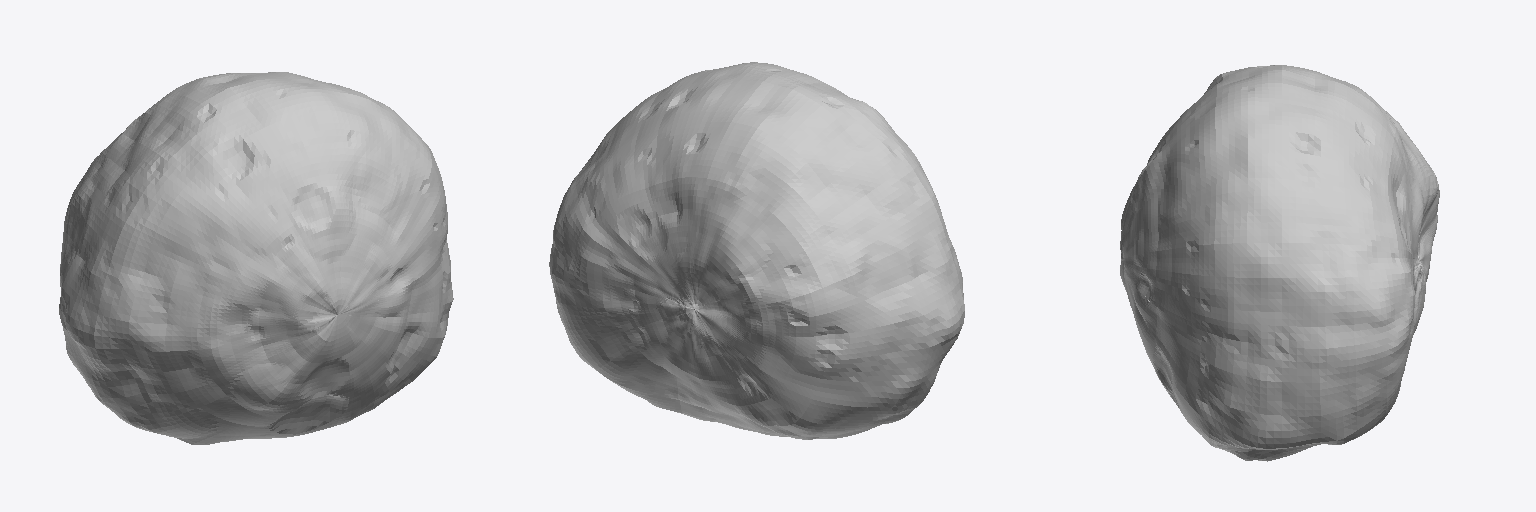
File: phobos-scaled-00002.obj
3 views of the same model, side by side, from view 1: azimuth 30°, elevation 25°; view 2: azimuth 150°, elevation 25°; view 3: azimuth 270°, elevation 25° (orthographic).
Size of the model in its own units: 0.0005 by 0.0005 by 0.0004.